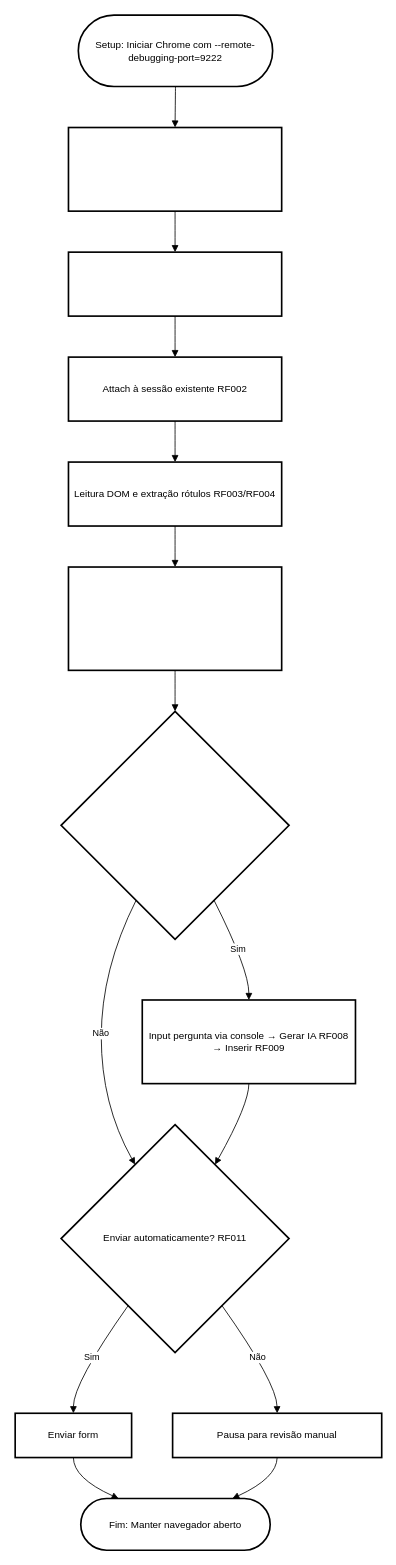
Some shapes in this 396 by 1565 pixel diagram are drawn without their labels. Here are the shapes that lost their labels. From the top down, the centre of each, then its label:
At [174,169]: "Usuário navega manualmente até página com formulário".
At [174,284]: "Ativação: Rodar script via CLI RF001".
At [174,618]: "Matching com config e preenchimento estáticos RF005/RF006 + Upload CV RF010".
At [174,825]: "Campos pendentes detectados? RF007".
